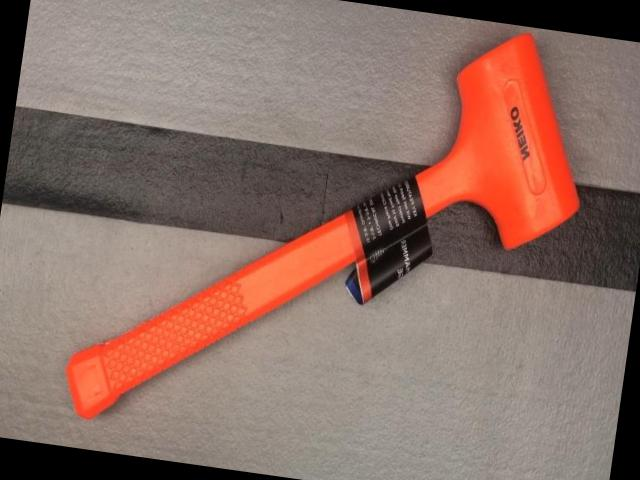hammer: (57, 0, 605, 480)
